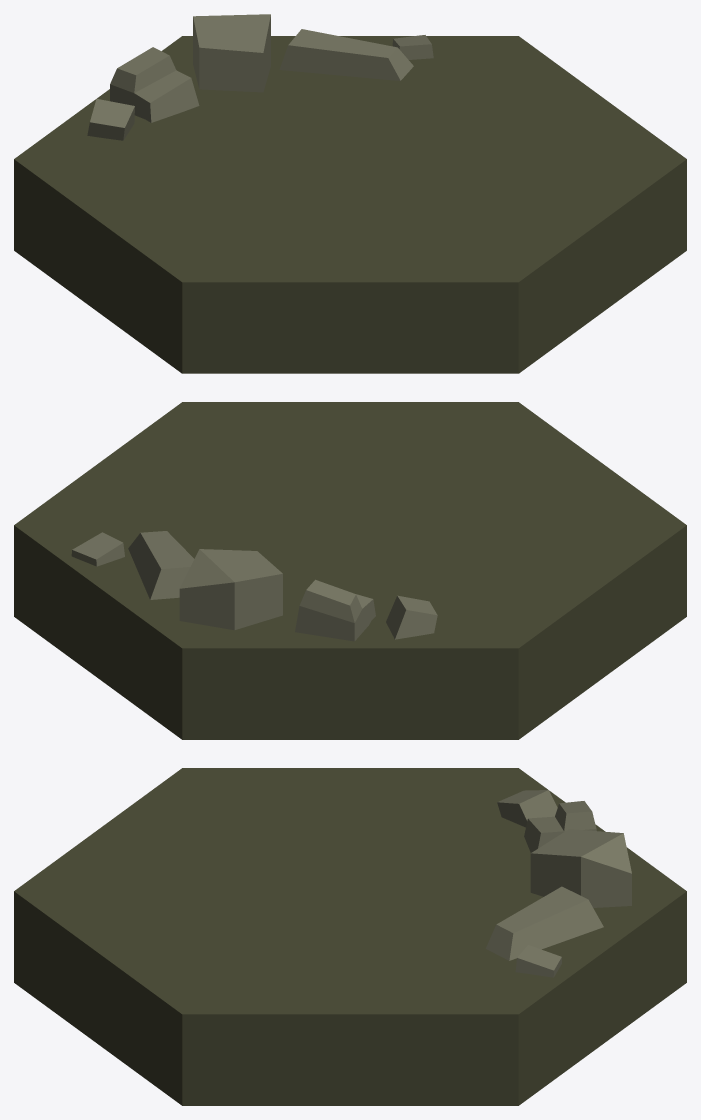
The model's file is GroundUnit(9).fbx.
3 views of the same model, one above another, from view 1: azimuth 30°, elevation 25°; view 2: azimuth 150°, elevation 25°; view 3: azimuth 270°, elevation 25° (orthographic).
Visible parts, largest first — view 1: GroundUnit3; view 2: GroundUnit3; view 3: GroundUnit3.
Part boxes in pixels (x1=…): GroundUnit3: x1=14, y1=14, x2=686, y2=373; GroundUnit3: x1=14, y1=402, x2=686, y2=739; GroundUnit3: x1=14, y1=768, x2=686, y2=1105.
Size of the model in its own units: 173 by 47.01 by 200.
